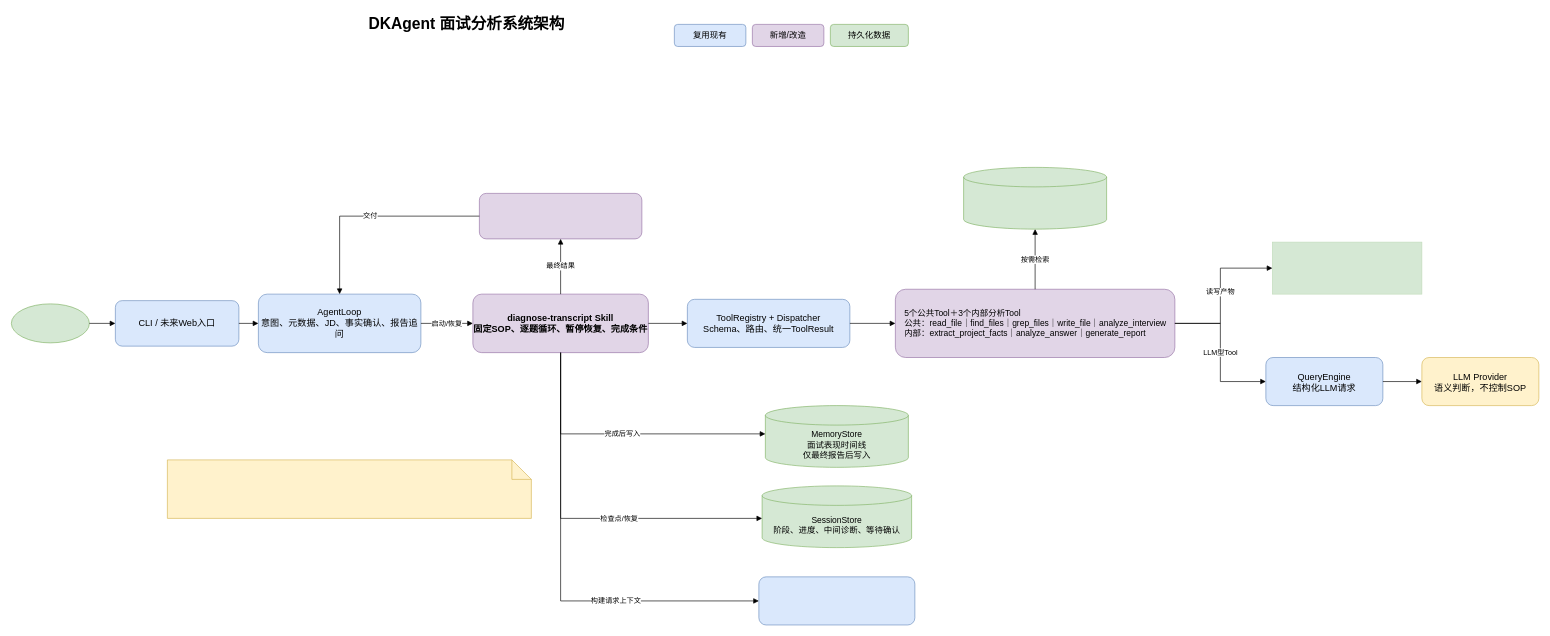
Some shapes in this 1550 by 636 pixel diagram are drawn without their labels. The shapes that lost their labels are listed below. From the top down, each one's centre as x and y in pixels, then its label:
At (x=560, y=216): "FinalReport 面试分析＋全部具体问题".
At (x=1035, y=198): "KnowledgeBase FTS5 / Embedding 按需技术核验".
At (x=1347, y=267): "文件产物 原稿、分析稿、错词Diff、最终报告".
At (x=50, y=323): "用户".
At (x=349, y=488): "不新增：Workflow Engine、多Agent、第二套模型调用层。 当前由诊断Skill编排3个内部分析Tool；表达统计合并进单次逐题分析。".
At (x=836, y=600): "ContextManager 当前问题簇＋项目事实＋必要证据".
